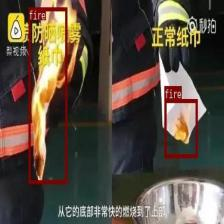fire: (28, 7, 67, 183), (164, 99, 197, 157)
